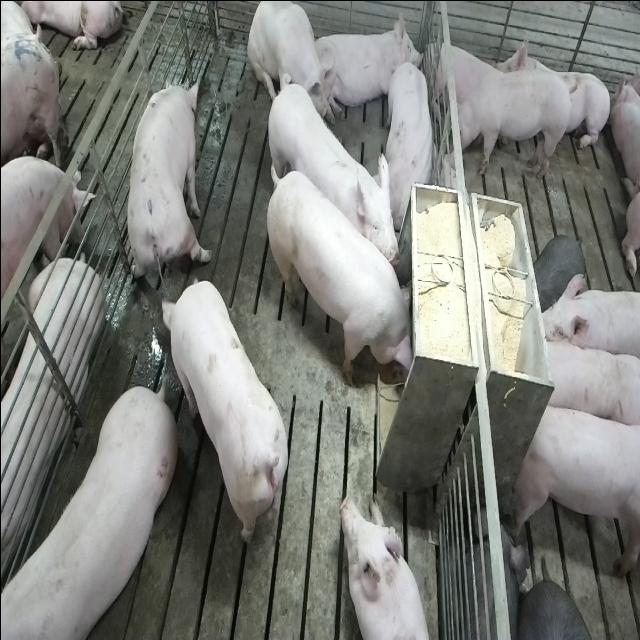Feeding: (269, 164, 422, 388)
Lateral_lying: (0, 150, 102, 588)
Sitting: (246, 2, 334, 132), (382, 61, 437, 220)
Standing: (0, 382, 173, 640), (160, 280, 293, 554), (262, 79, 399, 279), (508, 398, 638, 580), (124, 74, 208, 299), (447, 67, 576, 177), (533, 330, 637, 431), (535, 273, 640, 368)
Sternal_lying: (494, 30, 608, 158), (337, 491, 433, 640), (316, 12, 424, 127), (426, 34, 499, 119)
